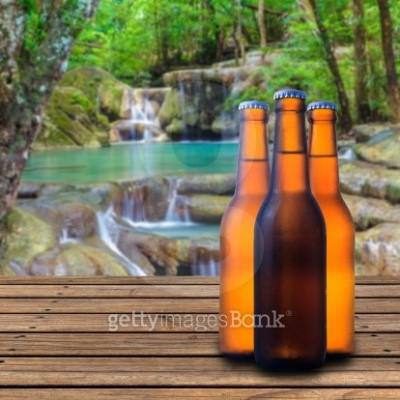beer: (216, 89, 360, 372)
